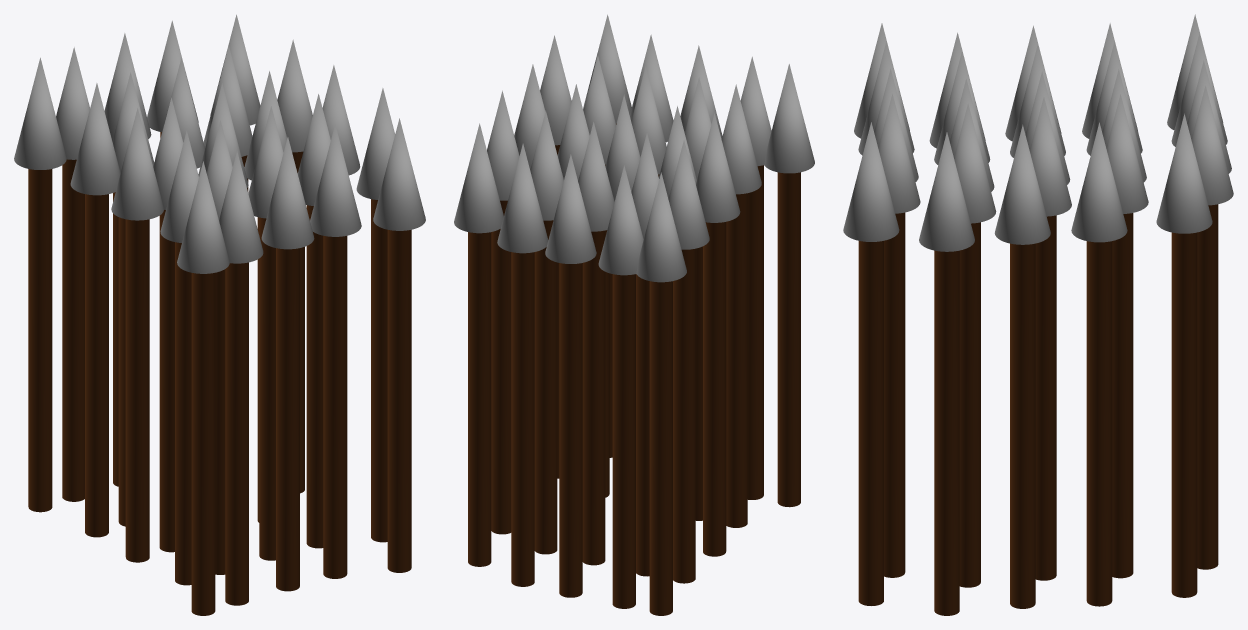
File: SpearTrap.fbx
3 views of the same model, side by side, from view 1: azimuth 30°, elevation 25°; view 2: azimuth 150°, elevation 25°; view 3: azimuth 270°, elevation 25° (orthographic). The views are drawn at different scales.
Visible parts, largest first — view 1: SpearTrap; view 2: SpearTrap; view 3: SpearTrap.
Part boxes in pixels (bbox=[...]): SpearTrap: bbox=[14, 14, 425, 615]; SpearTrap: bbox=[454, 14, 814, 615]; SpearTrap: bbox=[843, 14, 1233, 615].
Size of the model in its own units: 126 by 200 by 148.
